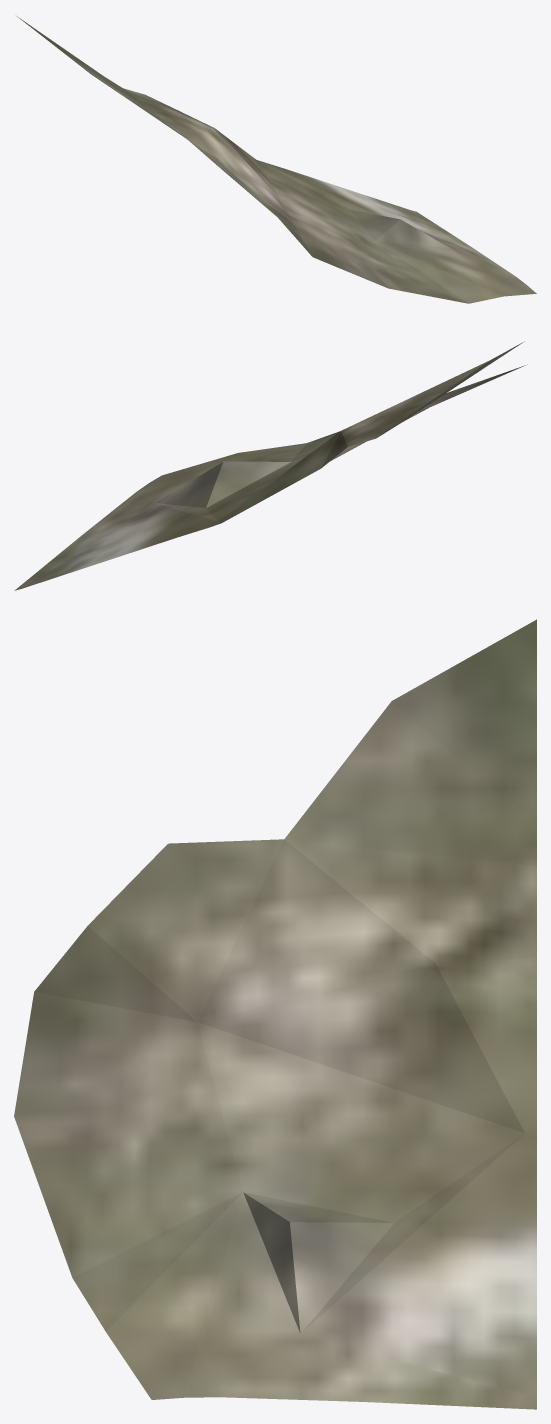
3 renders of one model, top to bottom at view 1: azimuth 30°, elevation 25°; view 2: azimuth 150°, elevation 25°; view 3: azimuth 270°, elevation 25°, orthographic. The views are drawn at different scales.
Bounding box in the file's own units: 8.76 × 6.15 × 6.14.
1 material, 1 textured.
